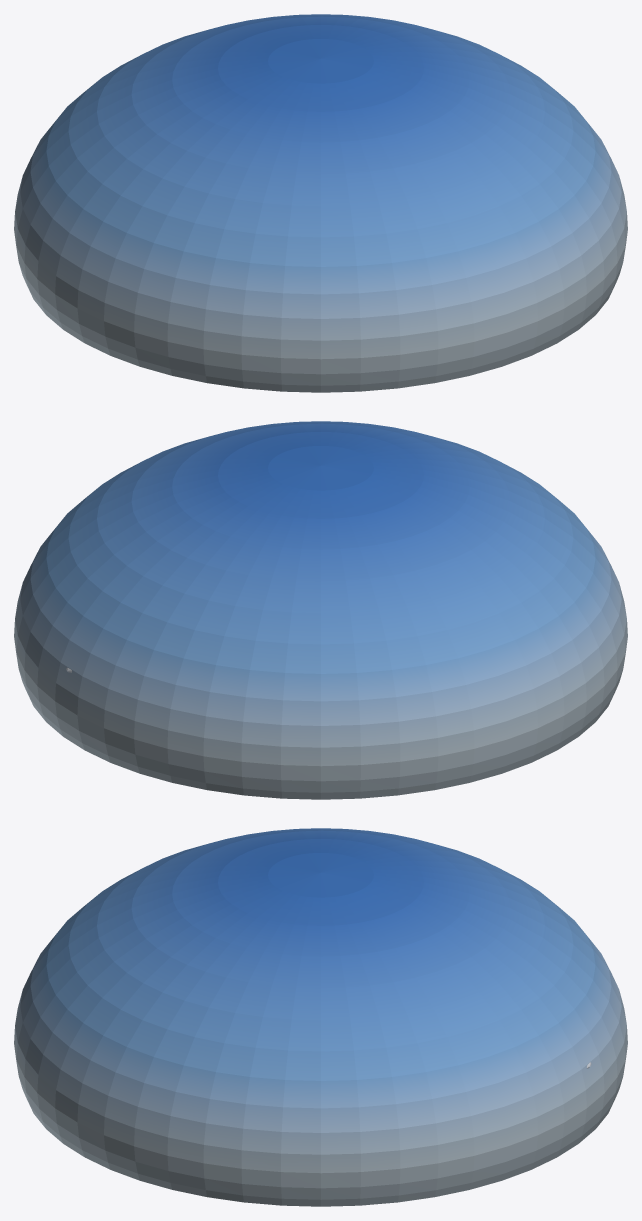
The model's file is set.glb.
3 renders of one model, top to bottom at view 1: azimuth 30°, elevation 25°; view 2: azimuth 150°, elevation 25°; view 3: azimuth 270°, elevation 25°, orthographic.
Parts seen in each view (by area): view 1: RoomGlowSky; view 2: RoomGlowSky; view 3: RoomGlowSky.
Part boxes in pixels (bbox=[...]): RoomGlowSky: bbox=[14, 14, 627, 392]; RoomGlowSky: bbox=[14, 421, 627, 799]; RoomGlowSky: bbox=[14, 828, 627, 1206].
Bounding box in the file's own units: 350 × 131 × 350.
